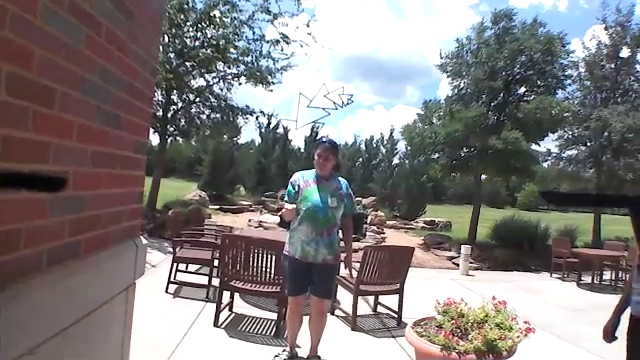land: (276, 198, 302, 212)
